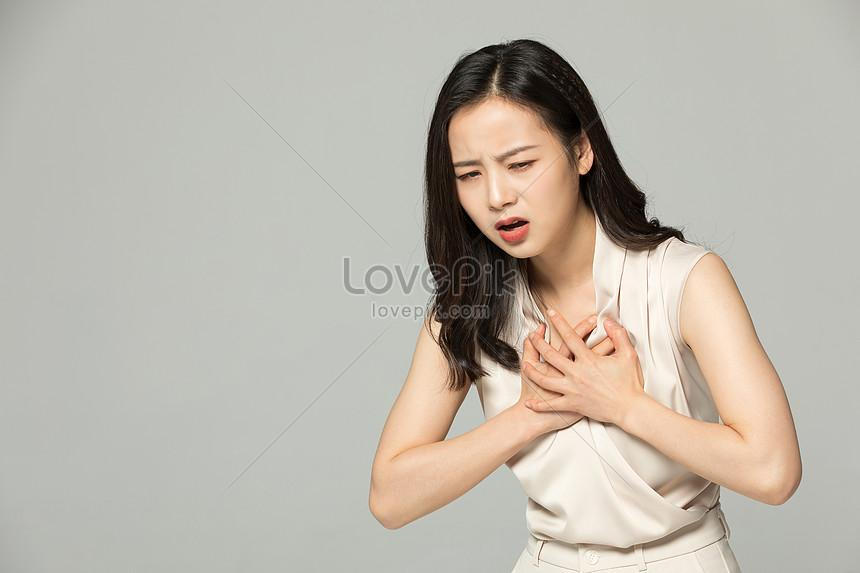pain: (445, 142, 549, 188)
